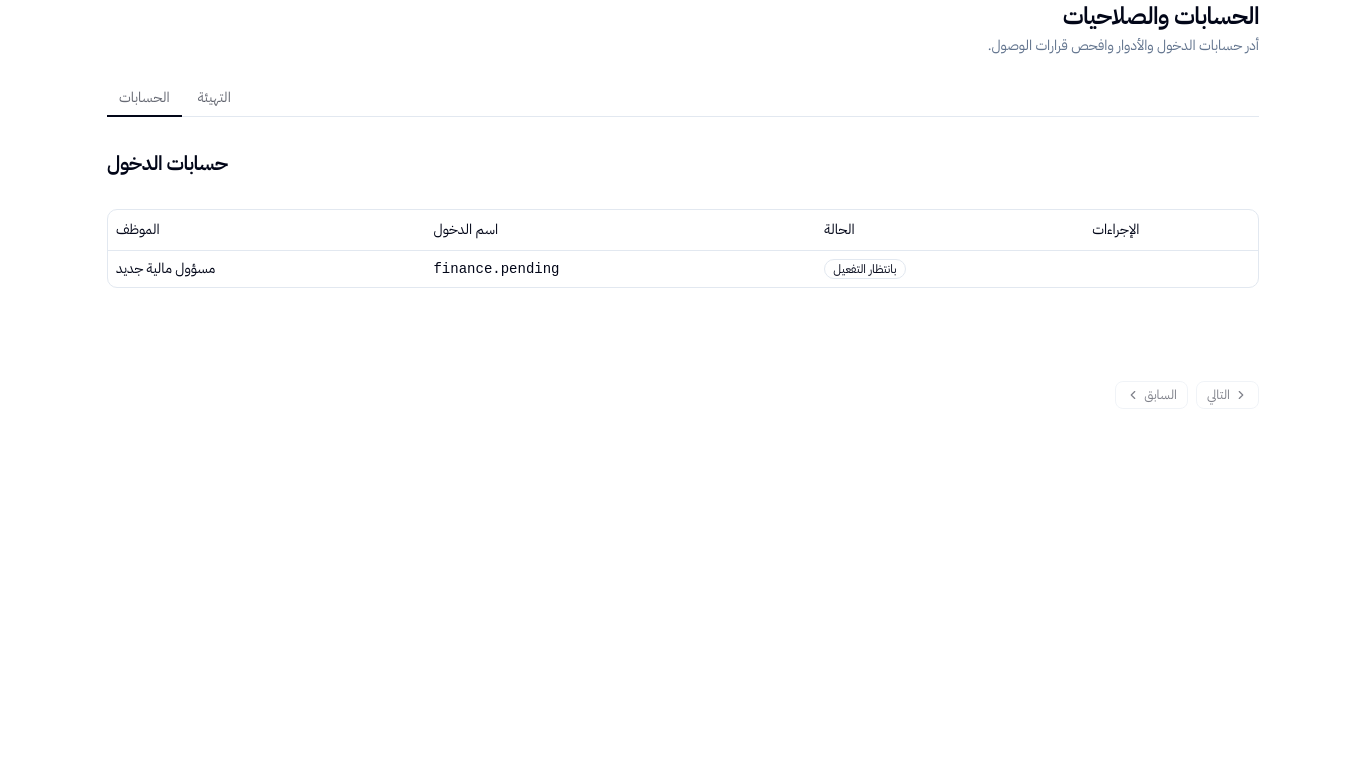
Scenario: access workspace shell › completes bootstrap only after AlertDialog confirmation with the observed version and then removes the tab
Press the mouse on the tab "التهيئة": (214, 98) [186,80,243,116]
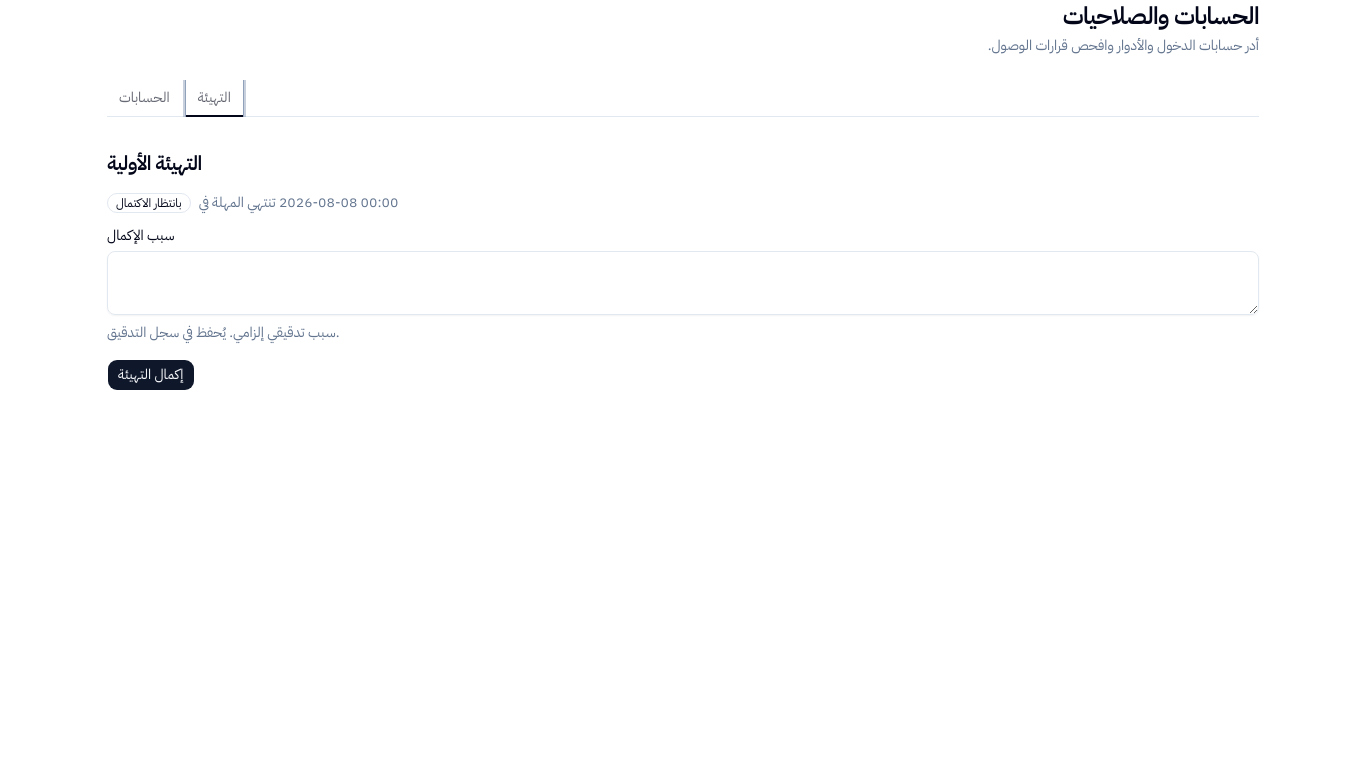
Note: Reason is required before the final confirmation can proceed.
In the text box labelled "سبب الإكمال": (683, 283) [107,251,1259,315], type "بدء التشغيل"
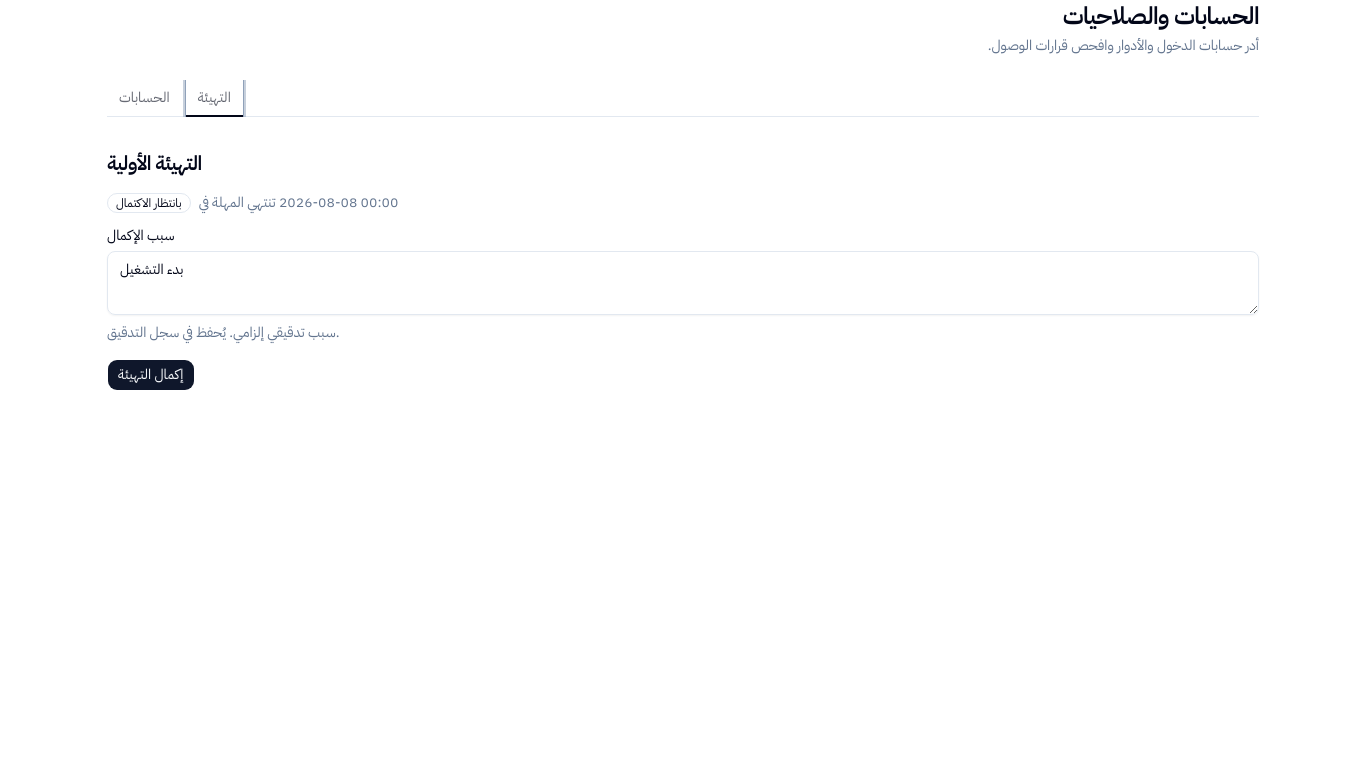
Submit the form "سبب الإكمال", box [107,229,1259,391]
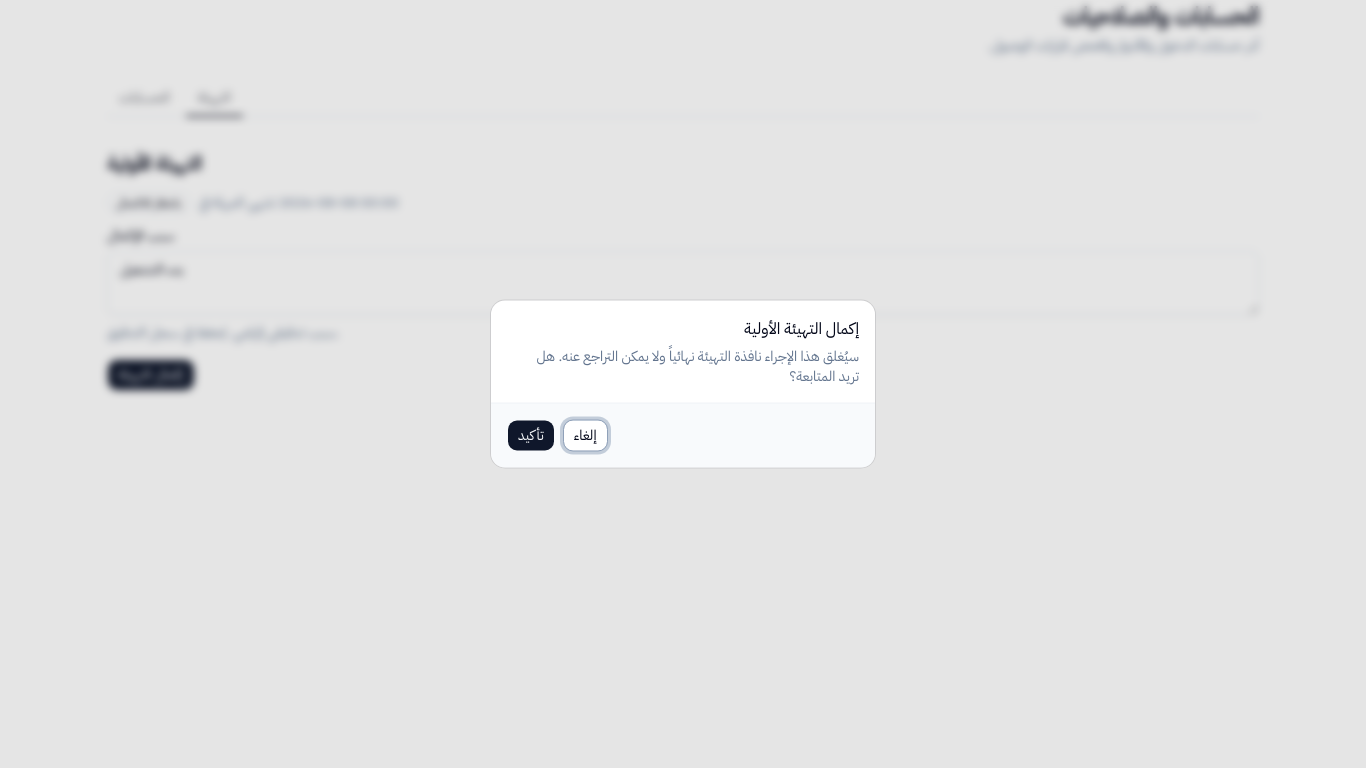
Click the button "تأكيد": click(531, 436) [507,420,555,452]
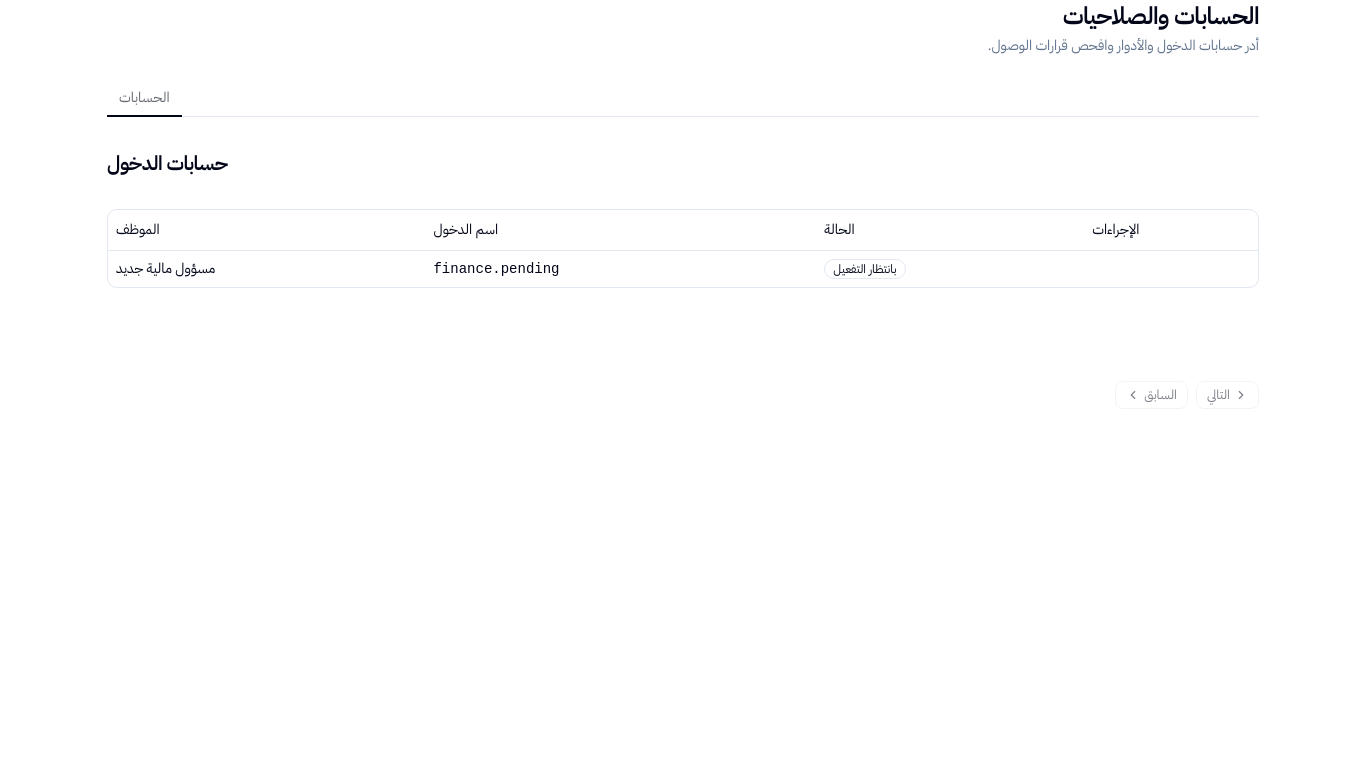
expect the tab "التهيئة" is gone: met
